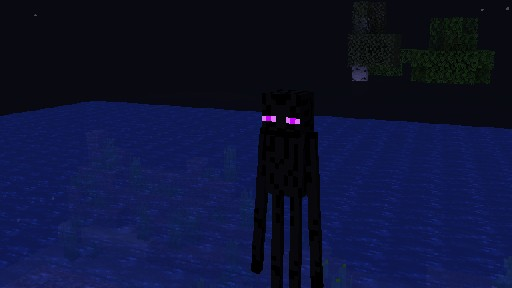enderman: (250, 88, 323, 288)
